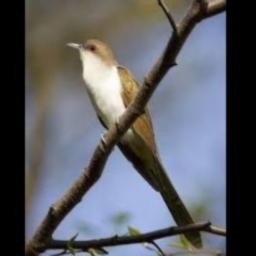Cuckoo: (65, 39, 203, 247)
